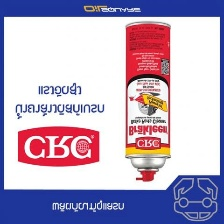aerosol_cans: (122, 19, 173, 184)
